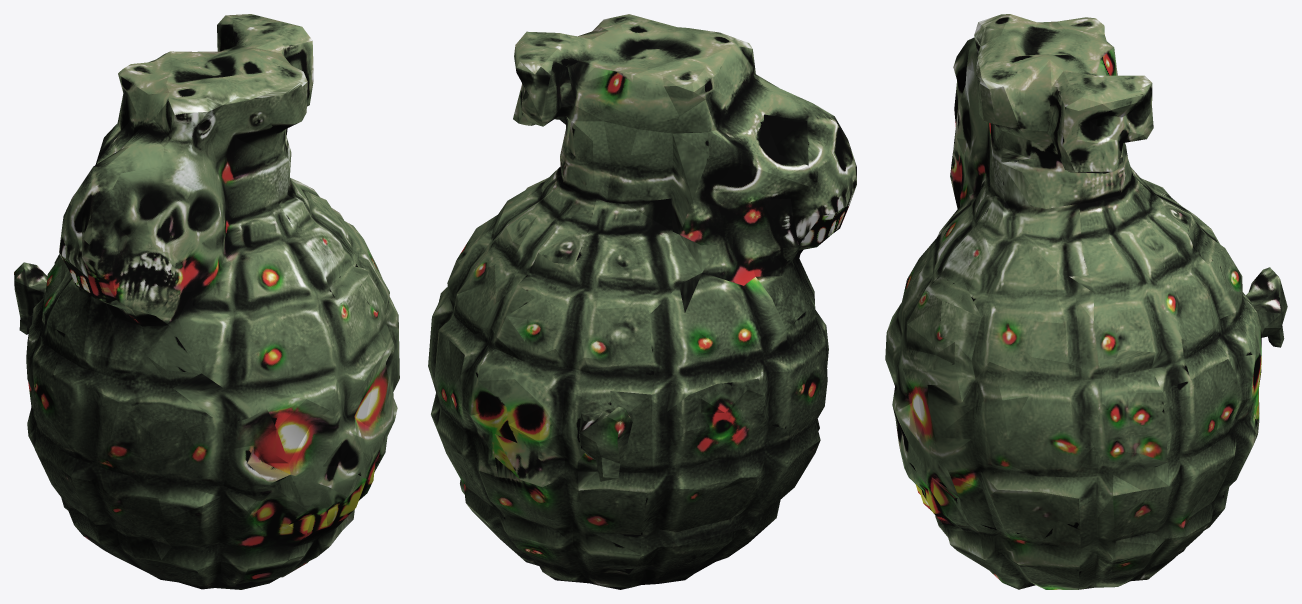
File: ML-Bite_Grenade.fbx
The picture shows the model from 3 angles, left to right: view 1: azimuth 30°, elevation 25°; view 2: azimuth 150°, elevation 25°; view 3: azimuth 270°, elevation 25°; orthographic projection.
Visible parts, largest first — view 1: mesh; view 2: mesh; view 3: mesh.
Part boxes in pixels (<box>): mesh: <box>14,14,399,589</box>; mesh: <box>428,14,856,589</box>; mesh: <box>885,14,1287,589</box>.
Bounding box in the file's own units: 103 × 144 × 102.
Materials: 1 (1 with a texture image).
